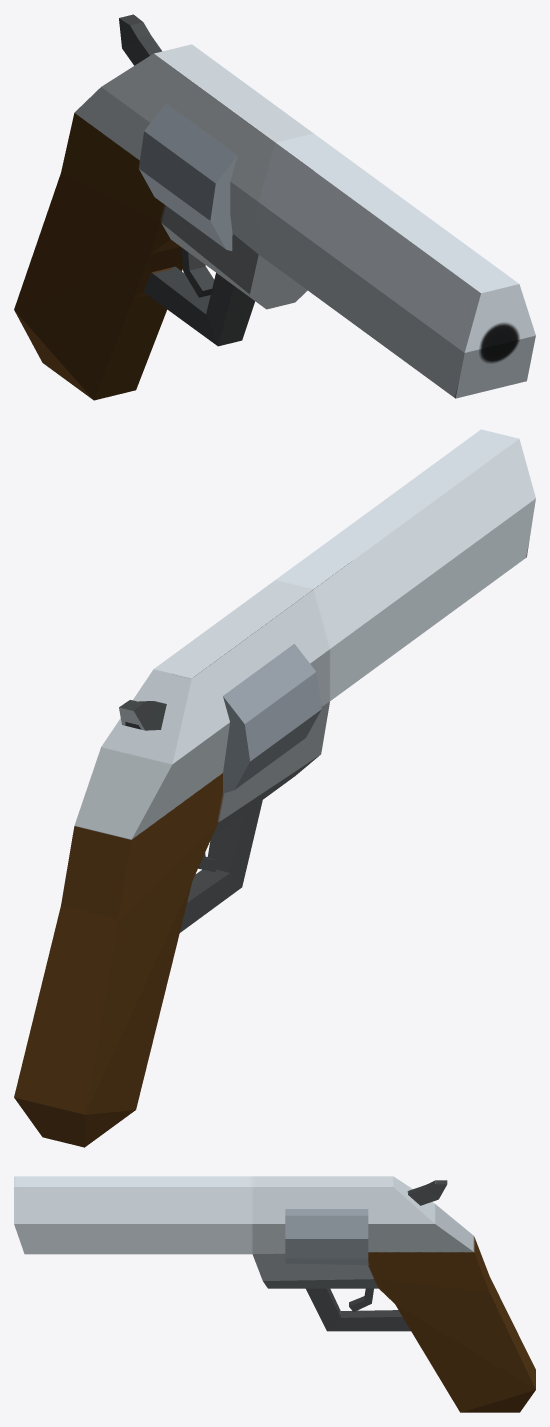
Rendered from revolver.fbx.
3 views of the same model, one above another, from view 1: azimuth 30°, elevation 25°; view 2: azimuth 150°, elevation 25°; view 3: azimuth 270°, elevation 25° (orthographic). The views are drawn at different scales.
Parts seen in each view (by area): view 1: Cube, Cylinder; view 2: Cube, Cylinder; view 3: Cube, Cylinder.
Part boxes in pixels (bbox=[...]): Cube: bbox=[14, 14, 535, 400]; Cylinder: bbox=[138, 103, 237, 250]; Cube: bbox=[14, 429, 535, 1147]; Cylinder: bbox=[223, 644, 321, 793]; Cube: bbox=[14, 1176, 535, 1412]; Cylinder: bbox=[285, 1209, 368, 1265].
Size of the model in its own units: 70.76 by 495 by 236.
Materials: 2 (1 with a texture image).
